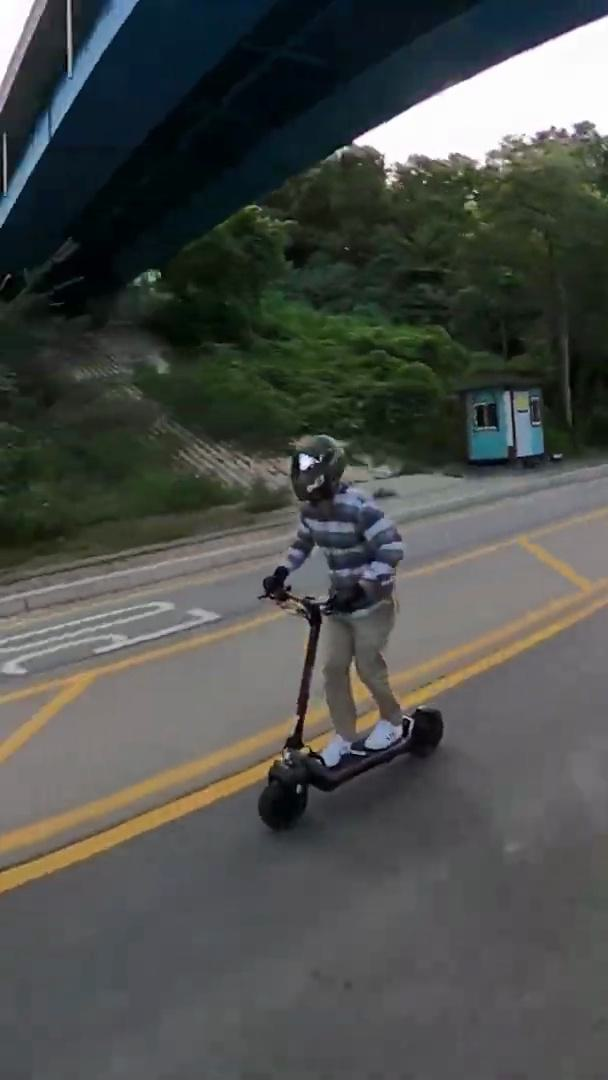helmet: (254, 432, 448, 835)
